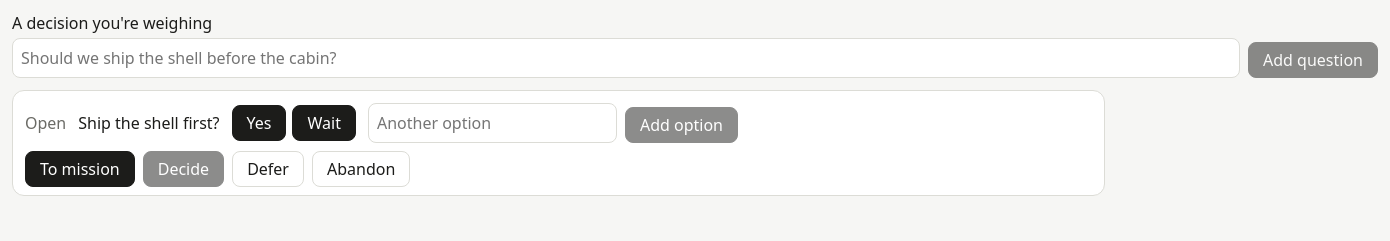
Test case: Journal › leans, then decides on the leaning
Check: the button "Decide" is disabled, box [143, 151, 224, 187]
Click the button "Wait" at (324, 123), box [292, 105, 356, 141]
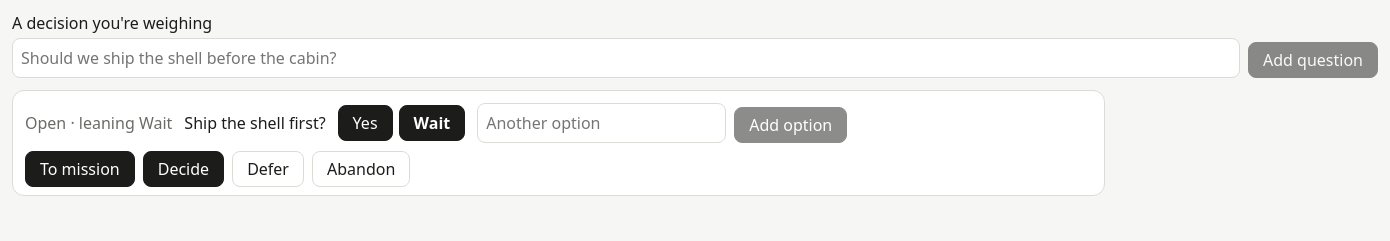
Check: the text "Open · leaning Wait" is shown, box [25, 112, 172, 134]
Click the button "Decide" at (183, 169), box [143, 151, 224, 187]
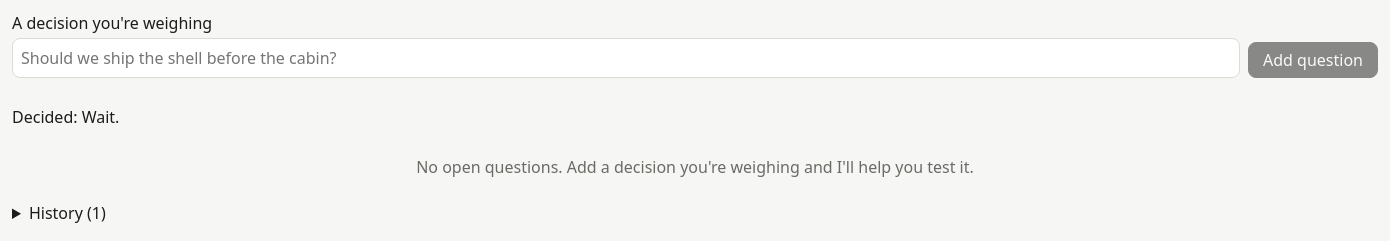
Check: the message reads "Decided: Wait.", box [12, 106, 119, 128]
Check: the text "No open questions. Add a decision you're weighing and I'll help you test it." is shown, box [416, 156, 974, 178]
Check: the heading "History (1)" is shown, box [29, 202, 106, 224]
